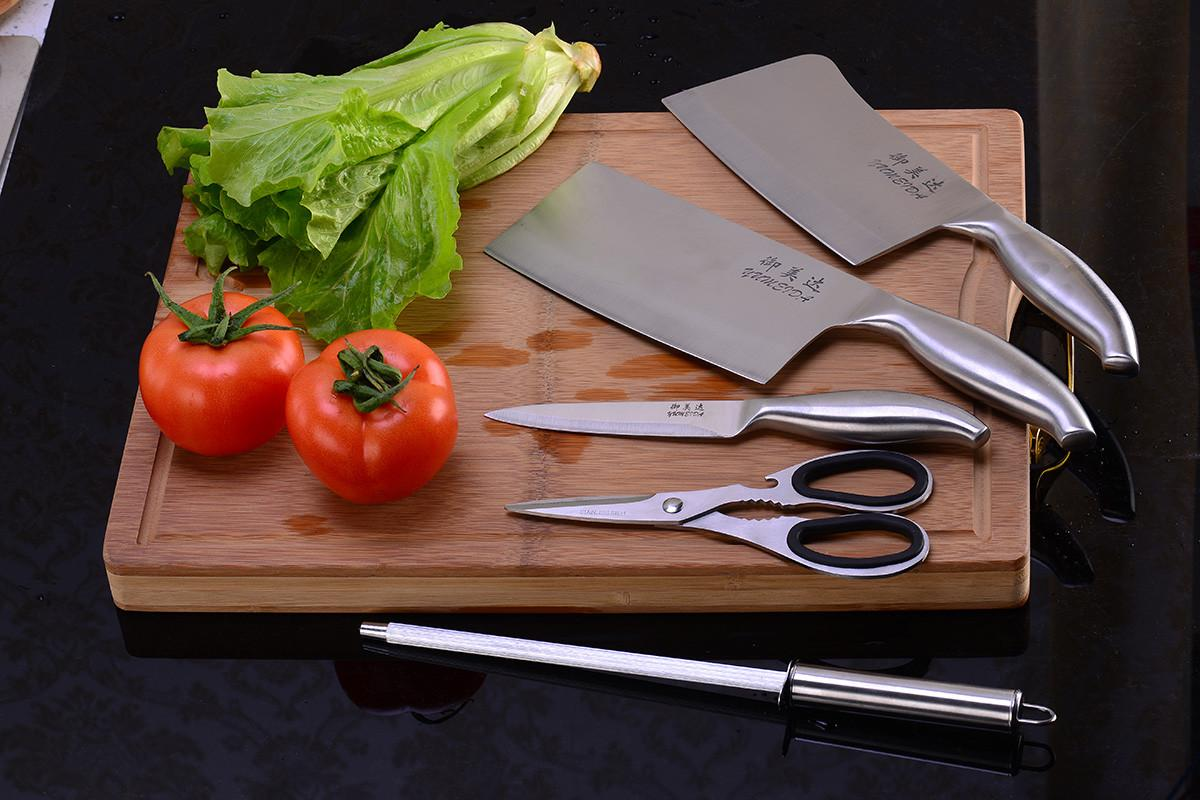knife: (443, 39, 1145, 466)
